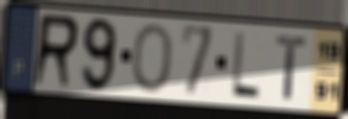7: (180, 22, 216, 100)
9: (80, 16, 121, 94)
L: (228, 29, 263, 102)
O: (129, 21, 175, 96)
R: (29, 11, 83, 91)
T: (274, 34, 310, 103)
